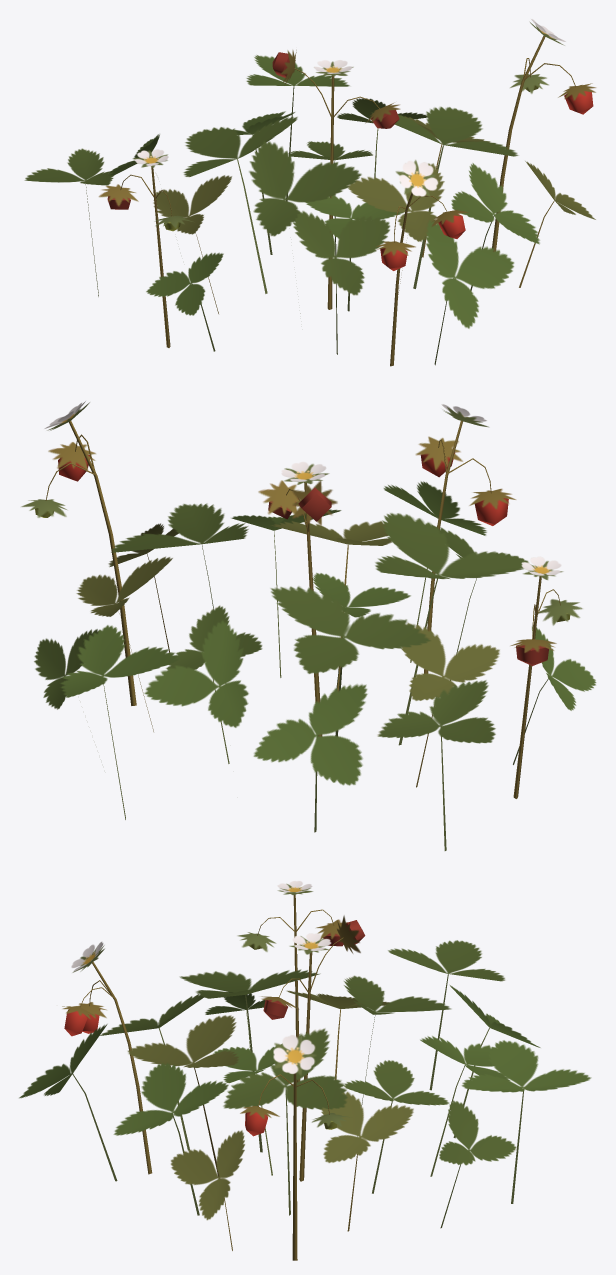
Rendered from Strawberry_Cluster_2.glb.
The picture shows the model from 3 angles, top to bottom: view 1: azimuth 30°, elevation 25°; view 2: azimuth 150°, elevation 25°; view 3: azimuth 270°, elevation 25°; orthographic projection. The views are drawn at different scales.
Visible parts, largest first — view 1: Strawberry_Cluster_2; view 2: Strawberry_Cluster_2; view 3: Strawberry_Cluster_2.
Part boxes in pixels (<box>): Strawberry_Cluster_2: <box>24,19,596,366</box>; Strawberry_Cluster_2: <box>21,401,596,850</box>; Strawberry_Cluster_2: <box>19,881,591,1260</box>.
Size of the model in its own units: 1.24 by 0.6134 by 1.28.
Materials: 1 (1 with a texture image).
